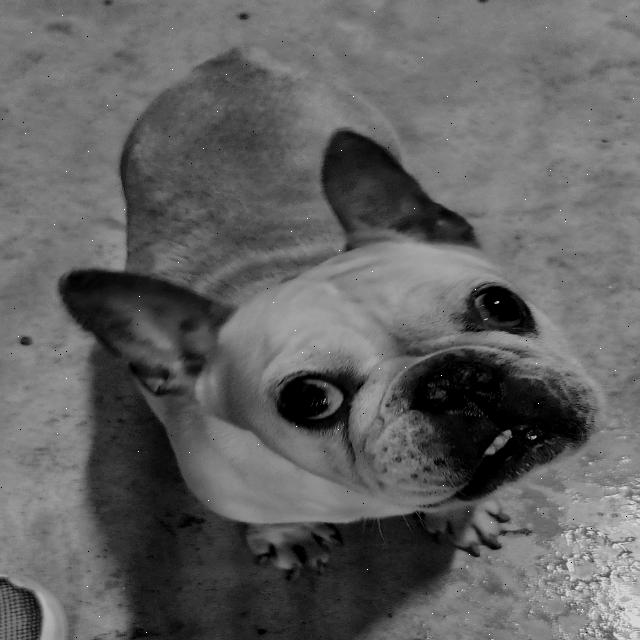french_bulldog_dog: (50, 117, 622, 529)
